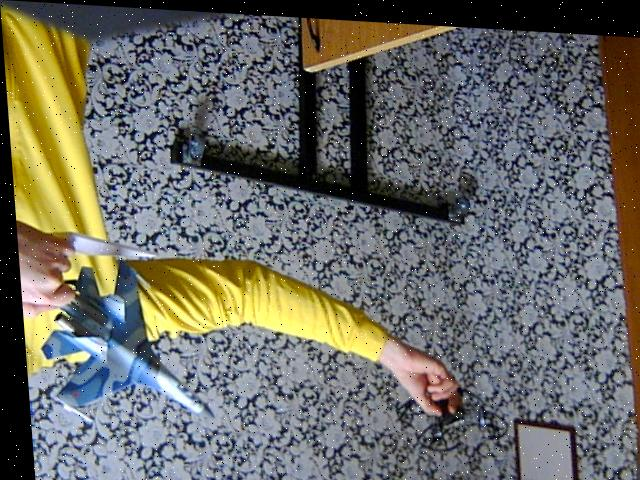drone: (379, 372, 505, 457)
